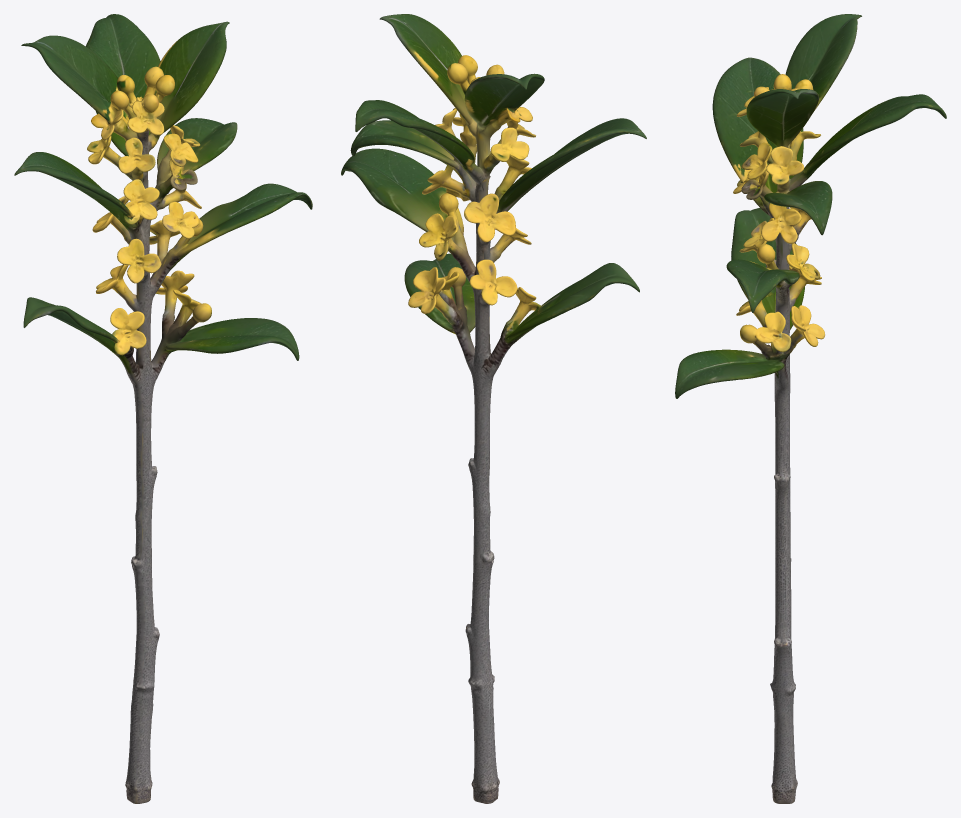
The model's file is guihua.glb.
The picture shows the model from 3 angles, left to right: view 1: azimuth 30°, elevation 25°; view 2: azimuth 150°, elevation 25°; view 3: azimuth 270°, elevation 25°; orthographic projection.
Parts seen in each view (by area): view 1: node_0; view 2: node_0; view 3: node_0.
Boxes of the visible parts, x1=… form: node_0: x1=14, y1=14, x2=312, y2=803; node_0: x1=341, y1=14, x2=646, y2=803; node_0: x1=675, y1=14, x2=946, y2=803.
Size of the model in its own units: 0.4871 by 1.17 by 0.3831.
Materials: 1 (1 with a texture image).
